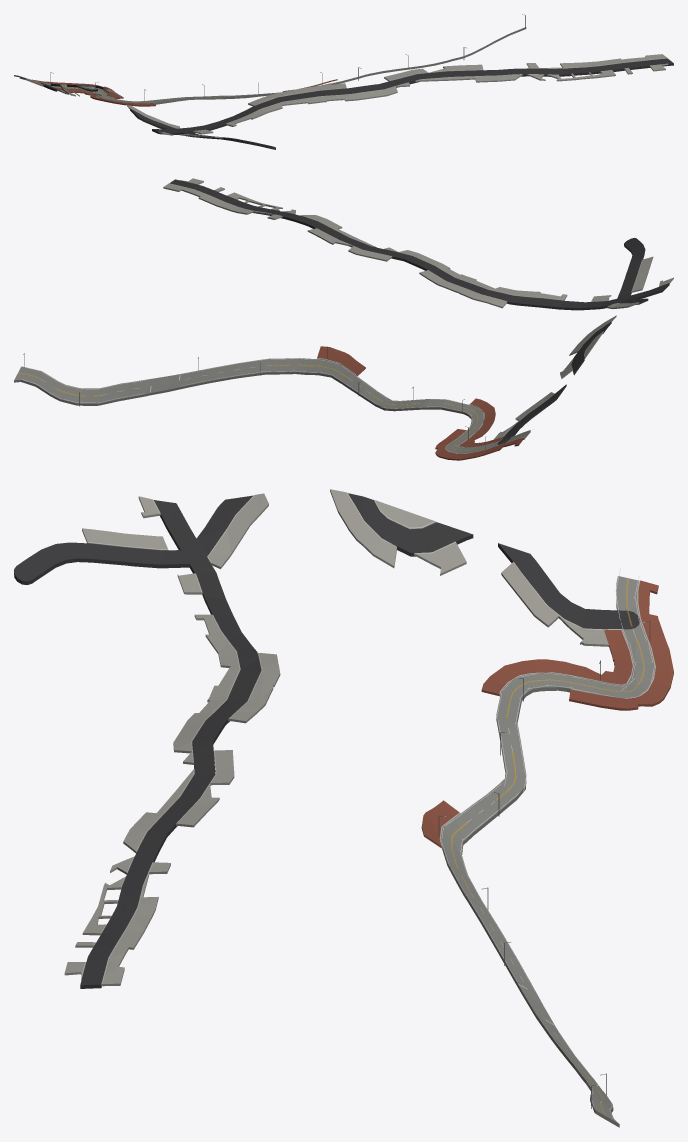
3 views of the same model, one above another, from view 1: azimuth 30°, elevation 25°; view 2: azimuth 150°, elevation 25°; view 3: azimuth 270°, elevation 25° (orthographic). The views are drawn at different scales.
Bounding box in the file's own units: 296 × 76.92 × 194.
